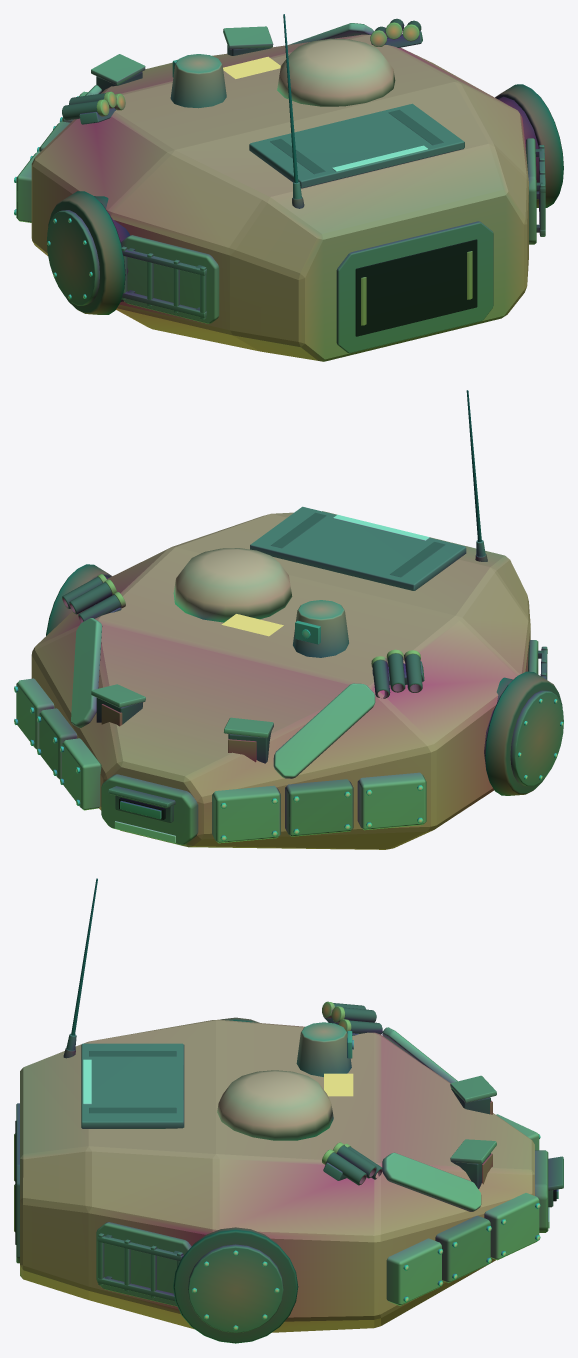
The model's file is core_t90m_proryv.glb.
3 views of the same model, one above another, from view 1: azimuth 30°, elevation 25°; view 2: azimuth 150°, elevation 25°; view 3: azimuth 270°, elevation 25° (orthographic). The views are drawn at different scales.
Visible parts, largest first — view 1: Body__armor_sub, Body__gunmetal, Body__dark, Body__armor, Body__bore, Body__brass, Body__decal, Body__copper, Body__hazard; view 2: Body__armor_sub, Body__armor, Body__gunmetal, Body__dark, Body__hazard, Body__chrome, Body__glass, Body__emit_red, Body__decal; view 3: Body__armor_sub, Body__gunmetal, Body__armor, Body__dark, Body__decal, Body__brass, Body__chrome.
Boxes of the visible parts, left/top/right/bottom form: Body__armor_sub: left=31, top=26, right=536, bottom=361; Body__gunmetal: left=46, top=31, right=545, bottom=353; Body__dark: left=48, top=14, right=563, bottom=314; Body__armor: left=16, top=23, right=395, bottom=222; Body__bore: left=355, top=239, right=477, bottom=336; Body__brass: left=96, top=22, right=419, bottom=116; Body__decal: left=223, top=56, right=280, bottom=78; Body__copper: left=361, top=251, right=472, bottom=325; Body__hazard: left=332, top=145, right=427, bottom=171; Body__armor_sub: left=31, top=511, right=538, bottom=849; Body__armor: left=16, top=548, right=426, bottom=843; Body__gunmetal: left=90, top=506, right=563, bottom=807; Body__dark: left=46, top=390, right=562, bottom=823; Body__hazard: left=114, top=514, right=429, bottom=843; Body__chrome: left=14, top=686, right=563, bottom=841; Body__glass: left=120, top=620, right=320, bottom=818; Body__emit_red: left=101, top=704, right=256, bottom=762; Body__decal: left=221, top=614, right=283, bottom=636; Body__armor_sub: left=20, top=1019, right=548, bottom=1332; Body__gunmetal: left=16, top=1016, right=563, bottom=1332; Body__armor: left=217, top=1027, right=539, bottom=1305; Body__dark: left=63, top=878, right=553, bottom=1343; Body__decal: left=324, top=1073, right=353, bottom=1096; Body__brass: left=322, top=1001, right=351, bottom=1164; Body__chrome: left=192, top=1134, right=540, bottom=1330.
Bounding box in the file's own units: 2.17 × 1.59 × 2.24.
